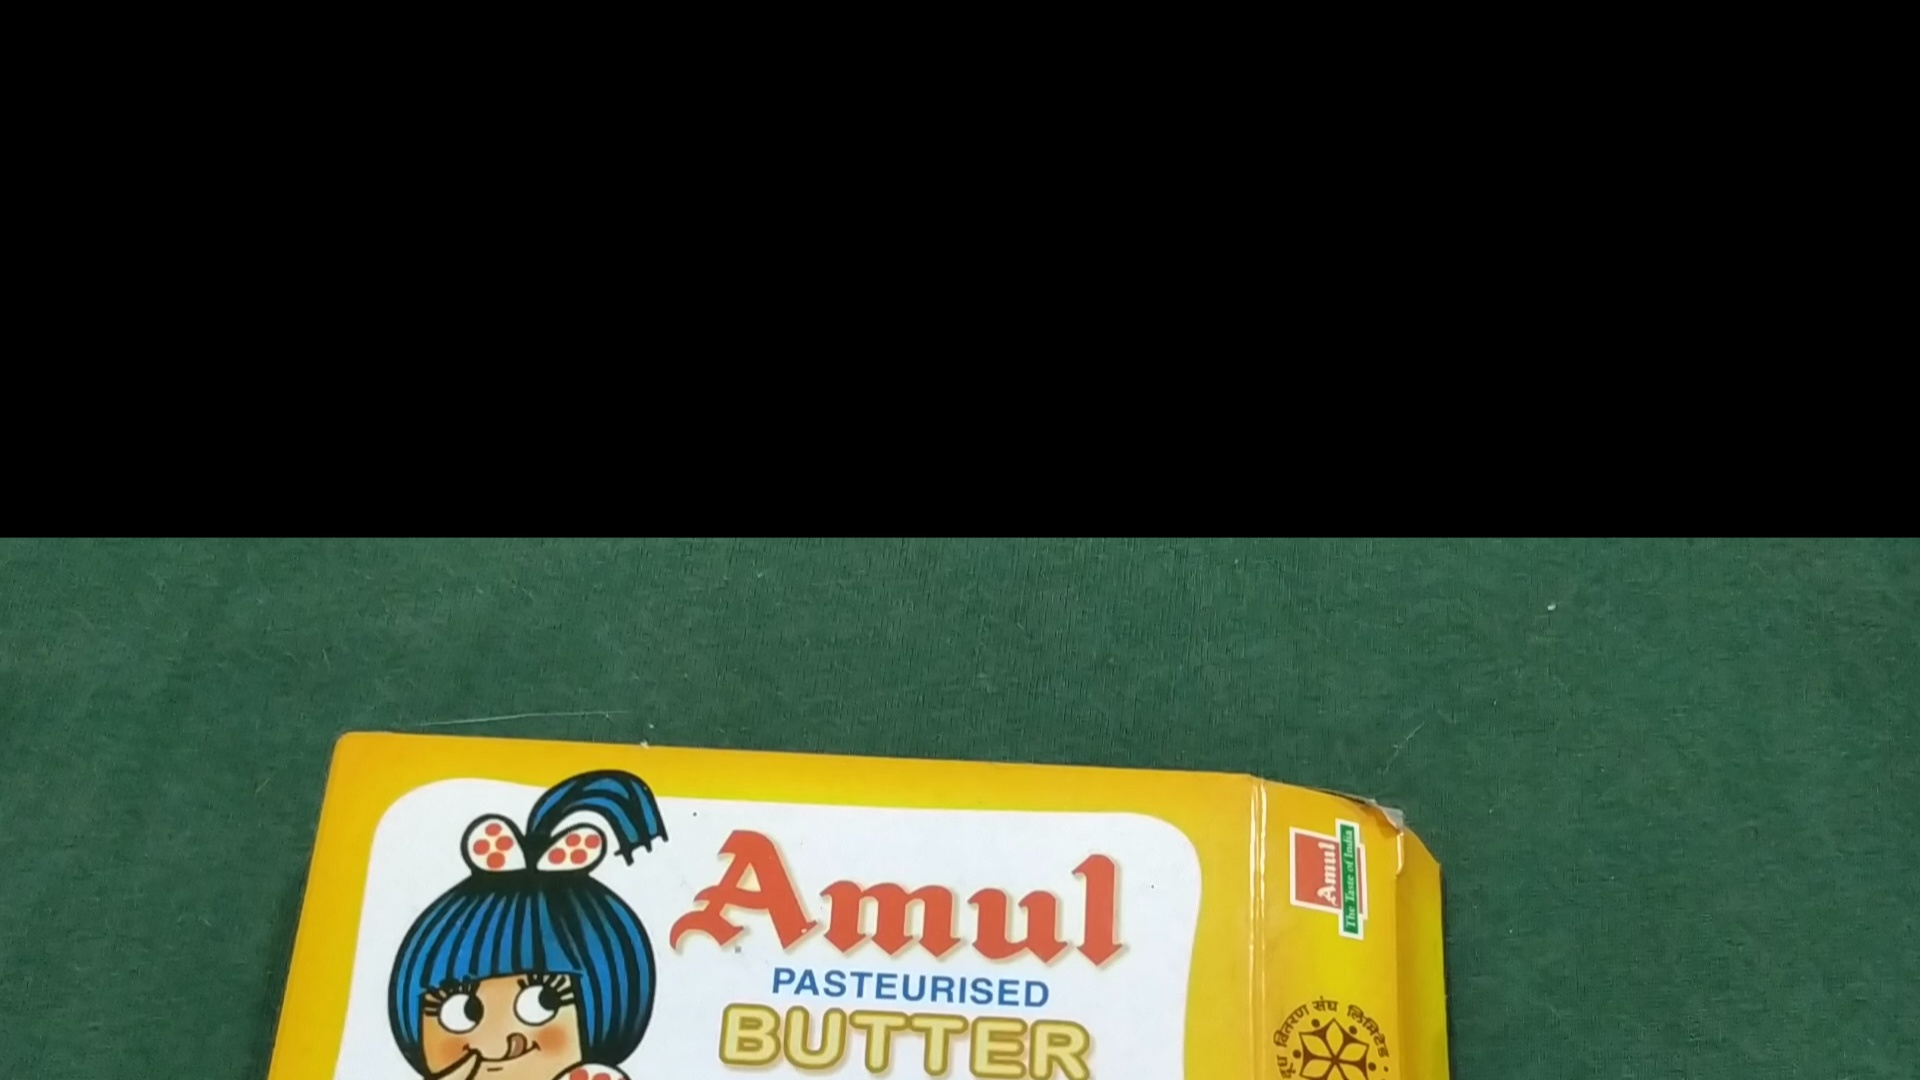amul_butter: (210, 731, 1457, 1080)
